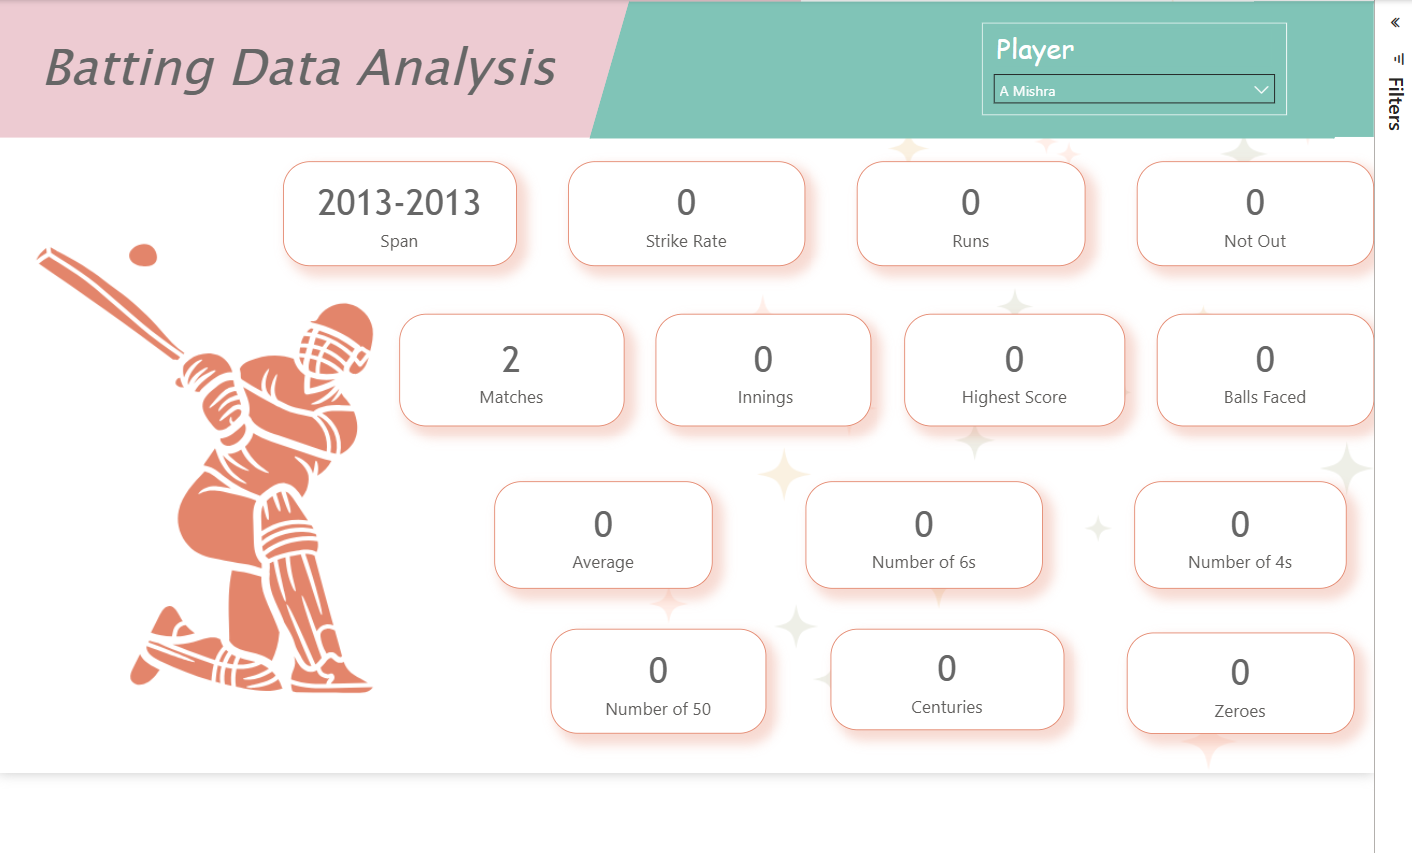

What the dashboard file says about the page in this screenshot:
{"tool":"powerbi","page":{"name":"Batting","canvas":[1280,720],"ordinal":0},"visuals":[{"type":"shape","box":[0,0,746.9,128.1],"z":0},{"type":"shape","box":[550,1.2,730.2,127.9],"z":1000},{"type":"shape","box":[1168.9,1.4,111.1,126.2],"z":2000},{"type":"slicer","fields":{"Values":["Batting.Player"]},"box":[915.1,20.9,283.7,86],"z":3000},{"type":"card","fields":{"Values":["Batting.SR"]},"box":[530.2,150,220.9,97.7],"z":4000},{"type":"card","fields":{"Values":["Batting.RunsDescending"]},"box":[798.8,150,212.8,97.7],"z":5000},{"type":"card","fields":{"Values":["Batting.NO"]},"box":[1059.1,150,220.9,97.7],"z":6000},{"type":"card","fields":{"Values":["Batting.Mat"]},"box":[373.3,291.9,209.3,104.7],"z":7000},{"type":"card","fields":{"Values":["Batting.Inns"]},"box":[612,291.9,201.2,104.7],"z":8000},{"type":"card","fields":{"Values":["Batting.HS"]},"box":[842.6,291.9,205.8,104.7],"z":9000},{"type":"card","fields":{"Values":["Batting.BF"]},"box":[1077.7,291.9,202.3,104.7],"z":10000},{"type":"card","fields":{"Values":["Batting.Ave"]},"box":[461.6,447.7,203.5,100],"z":11000},{"type":"card","fields":{"Values":["Batting.6s"]},"box":[750.6,447.7,220.9,100],"z":12000},{"type":"card","fields":{"Values":["Batting.4s"]},"box":[1057,447.7,197.7,100],"z":13000},{"type":"card","fields":{"Values":["Batting.50"]},"box":[514,584.9,201.2,97.7],"z":14000},{"type":"card","fields":{"Values":["Batting.100"]},"box":[773.8,584.9,217.4,94.2],"z":15000},{"type":"card","fields":{"Values":["Batting.0"]},"box":[1050,588.4,211.6,94.2],"z":16000},{"type":"card","fields":{"Values":["Batting.Span"]},"box":[265.1,150,217.4,97.7],"z":17000}]}

Visuals, with their boxes on the page's 1280x720 design canvas (x1, y1, x2, y2). These are canvas units, not pixel positions in the 1412x853 screenshot, which may show the page scaled, cropped or inside an application window:
shape: box(0, 0, 747, 128)
shape: box(550, 1, 1280, 129)
shape: box(1169, 1, 1280, 128)
slicer - Batting.Player: box(915, 21, 1199, 107)
card - Batting.SR: box(530, 150, 751, 248)
card - Batting.RunsDescending: box(799, 150, 1012, 248)
card - Batting.NO: box(1059, 150, 1280, 248)
card - Batting.Mat: box(373, 292, 583, 397)
card - Batting.Inns: box(612, 292, 813, 397)
card - Batting.HS: box(843, 292, 1048, 397)
card - Batting.BF: box(1078, 292, 1280, 397)
card - Batting.Ave: box(462, 448, 665, 548)
card - Batting.6s: box(751, 448, 972, 548)
card - Batting.4s: box(1057, 448, 1255, 548)
card - Batting.50: box(514, 585, 715, 683)
card - Batting.100: box(774, 585, 991, 679)
card - Batting.0: box(1050, 588, 1262, 683)
card - Batting.Span: box(265, 150, 482, 248)
